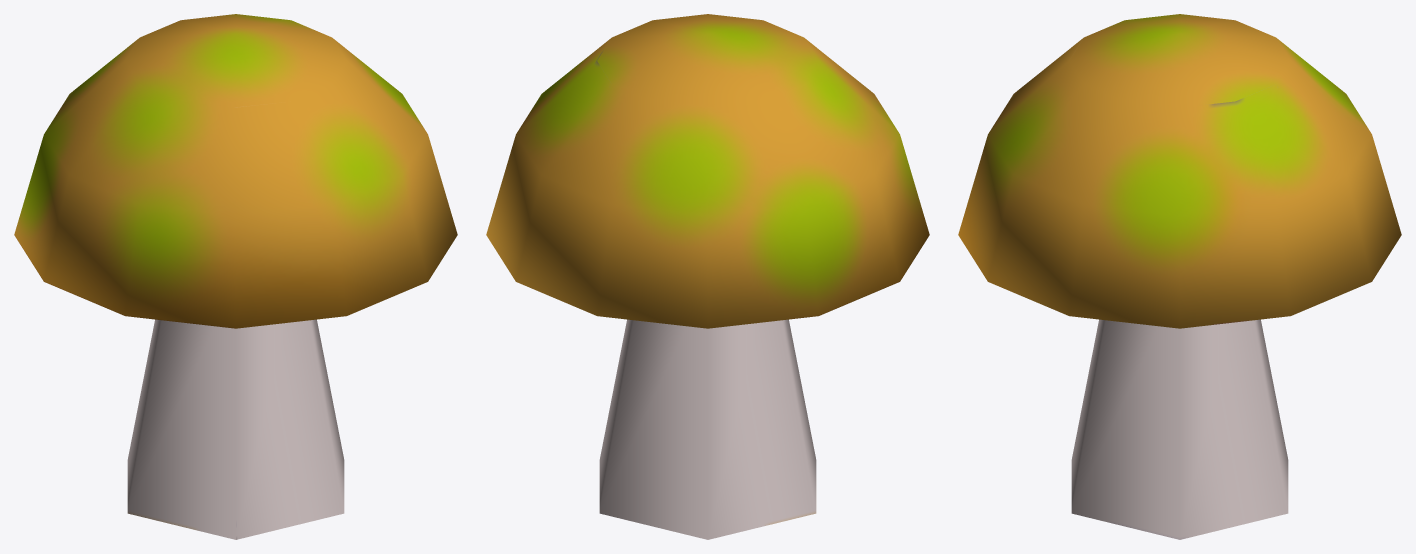
File: mushroom_3.fbx
3 views of the same model, side by side, from view 1: azimuth 30°, elevation 25°; view 2: azimuth 150°, elevation 25°; view 3: azimuth 270°, elevation 25° (orthographic).
Visible parts, largest first — view 1: Sphere001; view 2: Sphere001; view 3: Sphere001.
Boxes of the visible parts, x1,y1,x2,y2 form: Sphere001: (14,14,457,539); Sphere001: (486,14,929,539); Sphere001: (958,14,1401,539).
Size of the model in its own units: 5.24 by 5.24 by 5.91.
